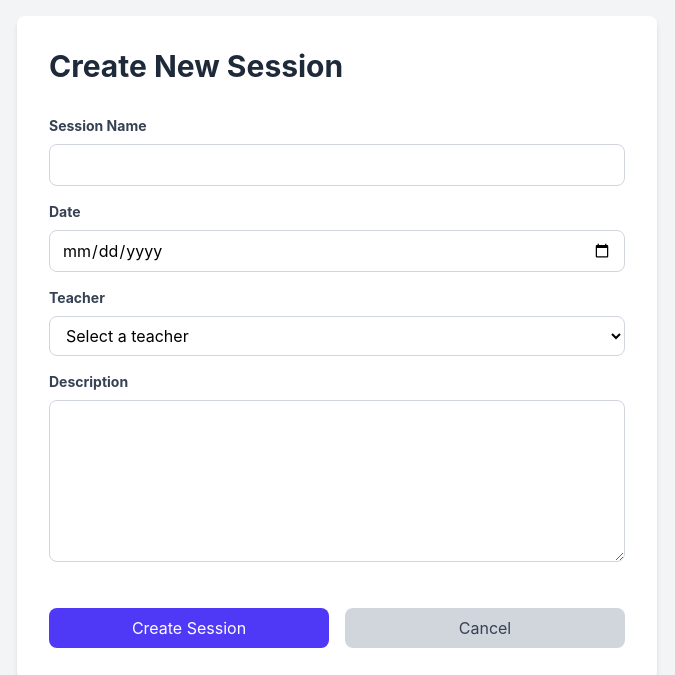
it: SessionForm (integration) › displays the backend error message if the creation fails
In the field named "name": (337, 165) top-left (49, 144), bottom-right (625, 186), type "Yoga du soir"
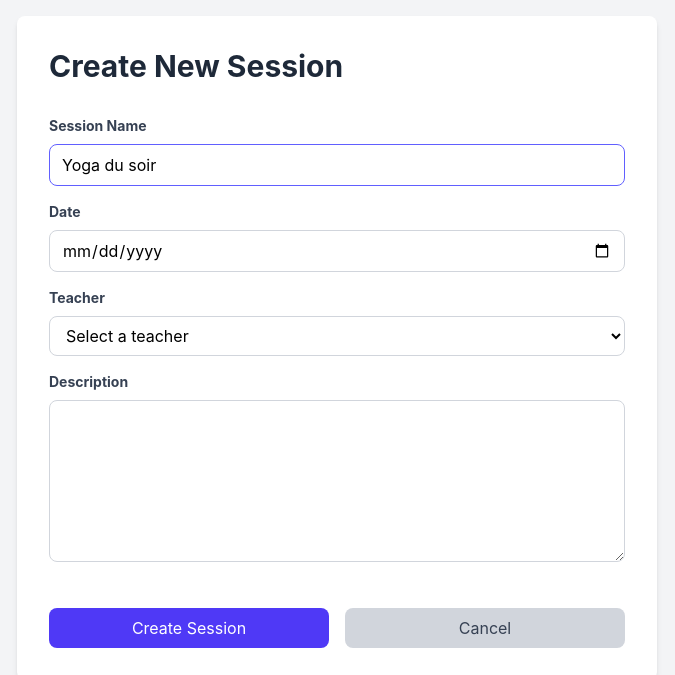
In the date field named "date": (337, 251) top-left (49, 230), bottom-right (625, 272), type "2026-07-15"
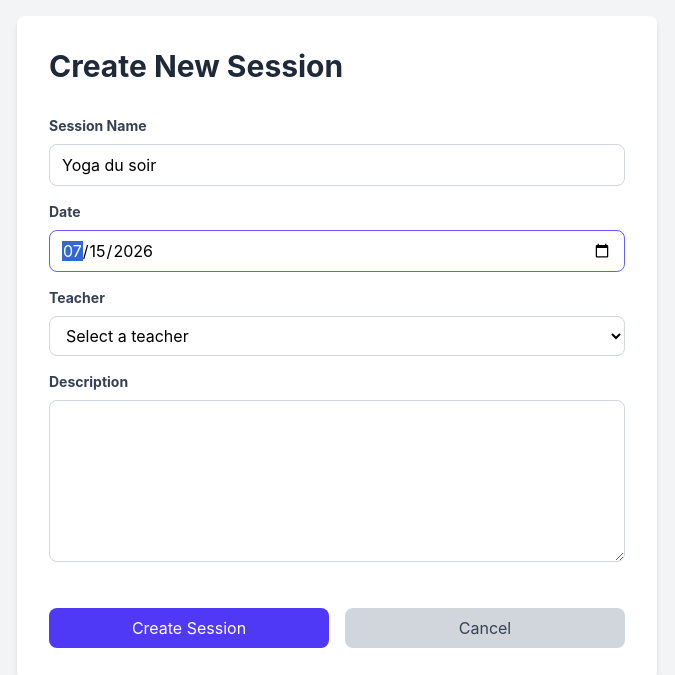
Select "Charlie Zterone" in the dropdown named "teacherId": (337, 336) top-left (49, 316), bottom-right (625, 356)
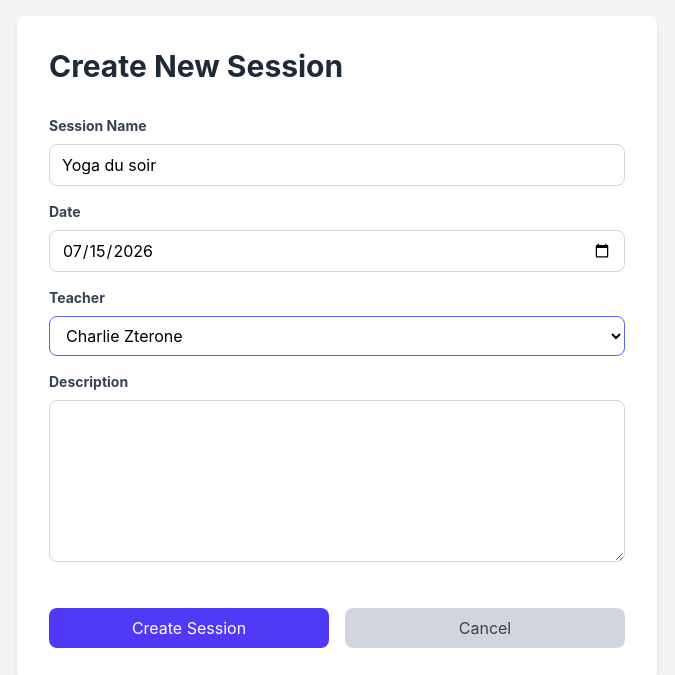
In the text box named "description": (337, 481) top-left (49, 400), bottom-right (625, 562), type "Une séance dynamique"
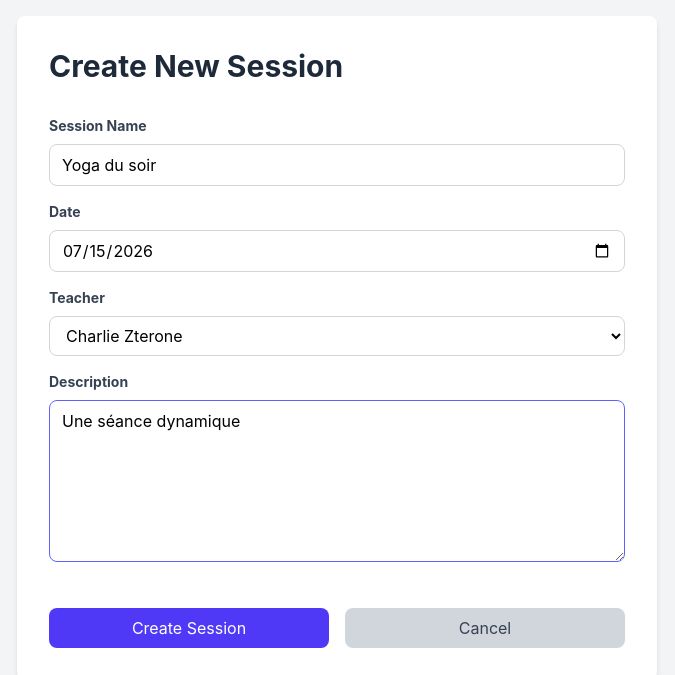
Click the button "Create Session": (189, 628) top-left (49, 608), bottom-right (329, 648)
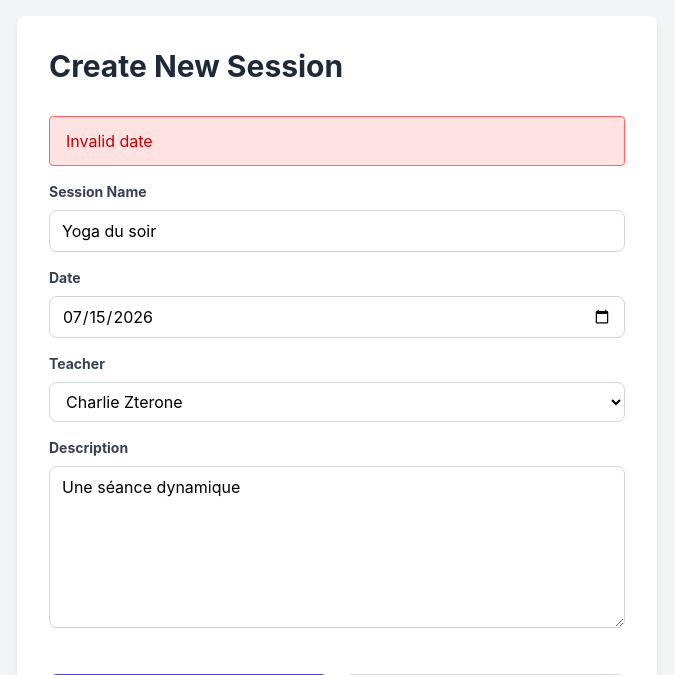
Check: the text "Invalid date" is shown, box top-left (49, 116), bottom-right (625, 166)
